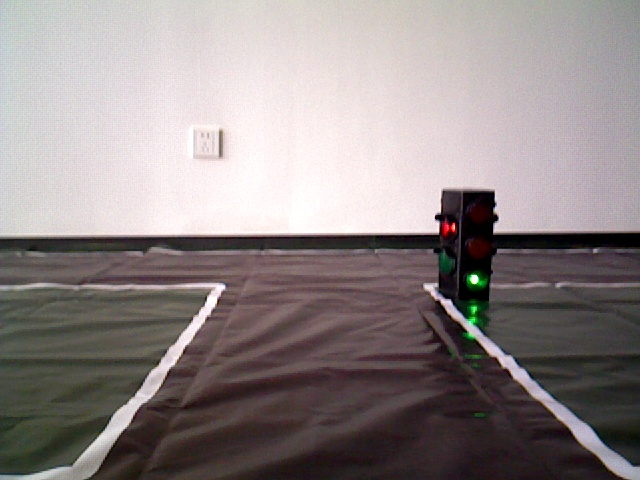green: (439, 191, 493, 287)
